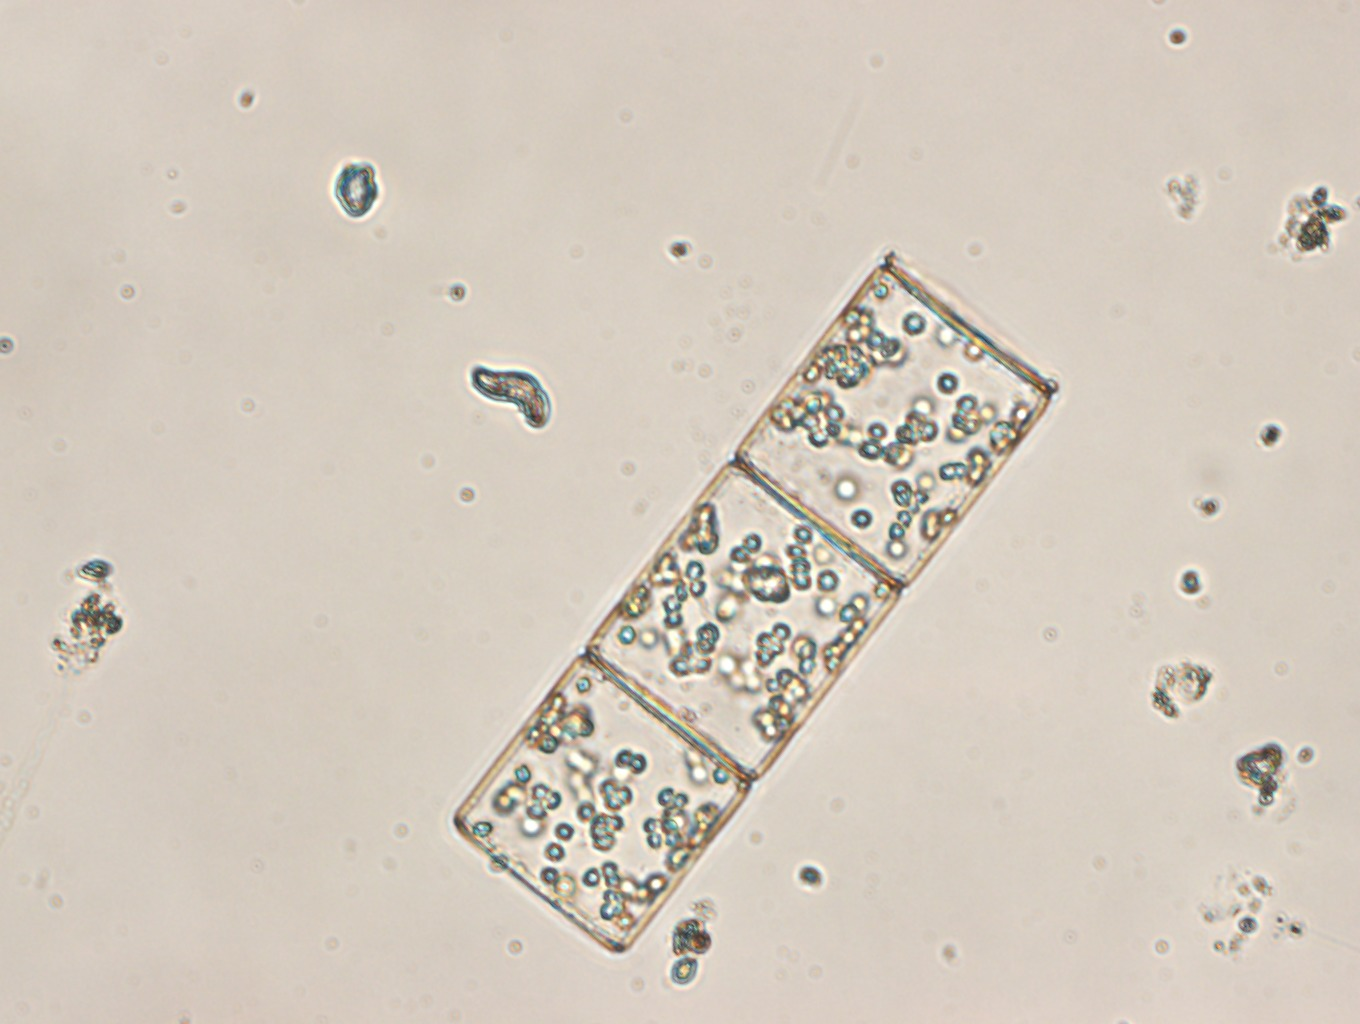guinardia flaccida: (452, 262, 1050, 952)
